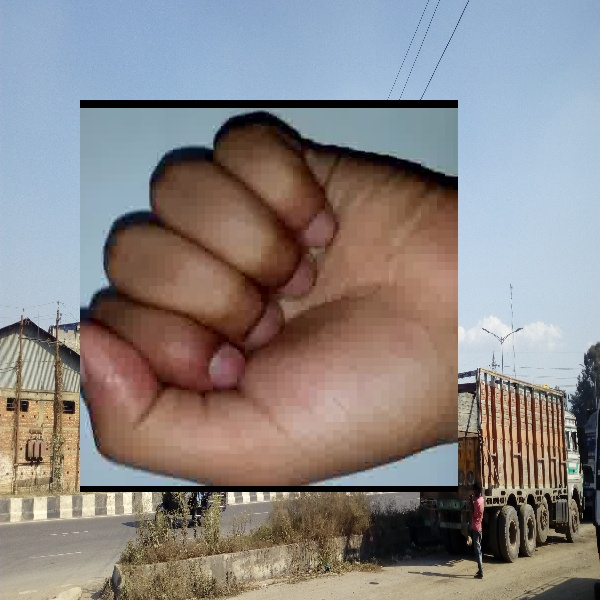A: (80, 100, 458, 492)
